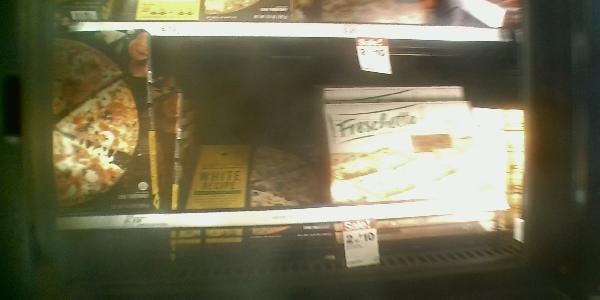pizza: (325, 102, 493, 217), (53, 31, 156, 210), (196, 142, 325, 215)
pizza1: (320, 84, 468, 102)
